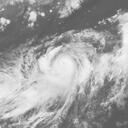cyclone: (37, 41, 90, 94)
